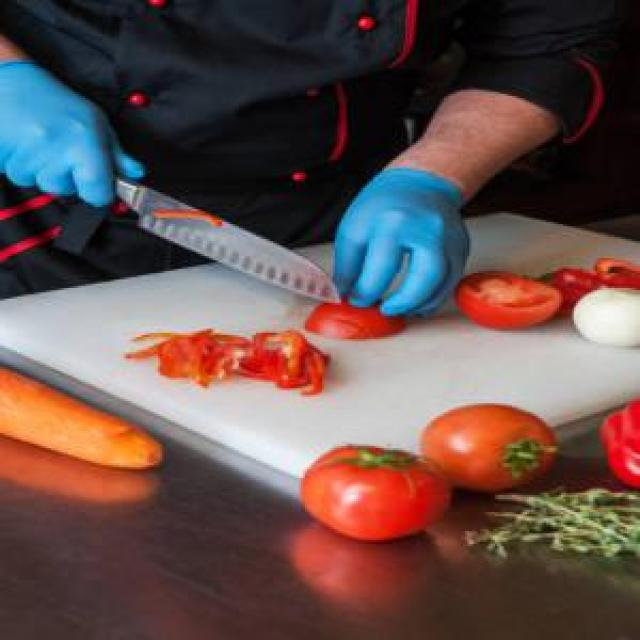knife: (109, 175, 344, 308)
